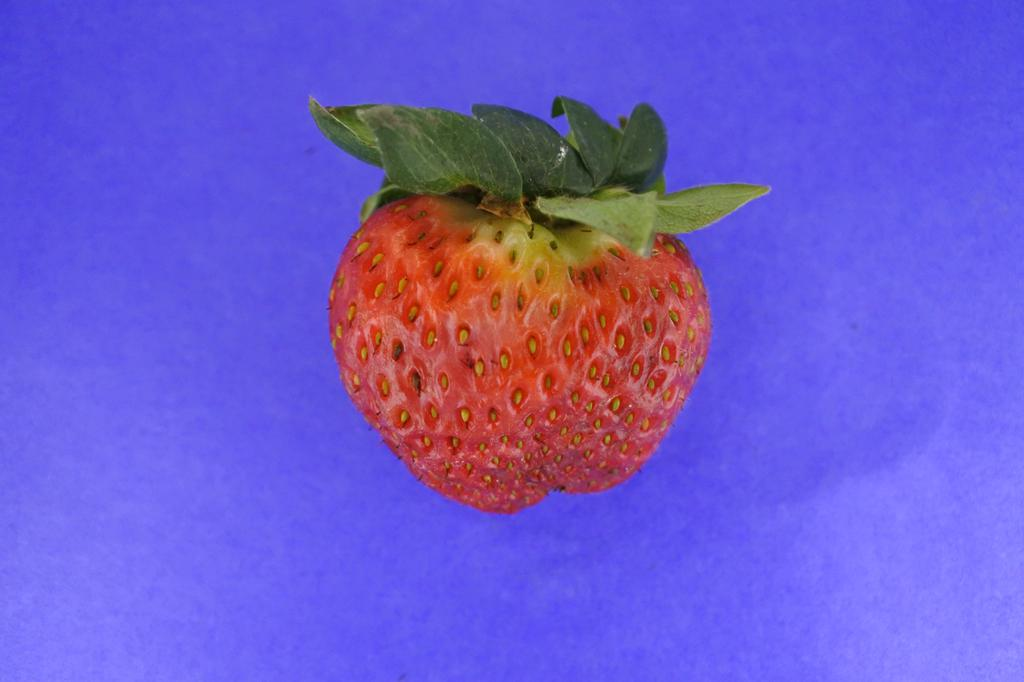red strawberry: (308, 97, 758, 514)
